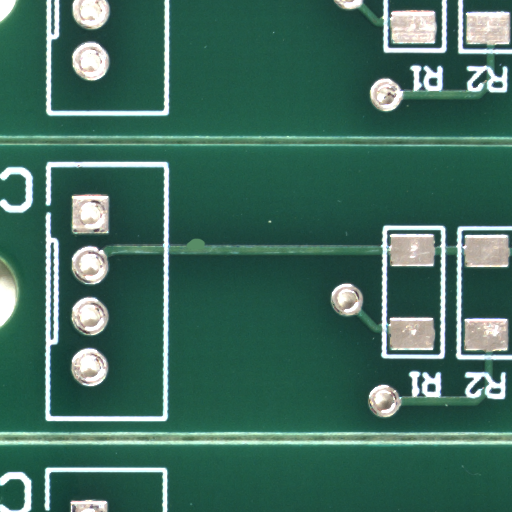Spur: (196, 242, 217, 251)
